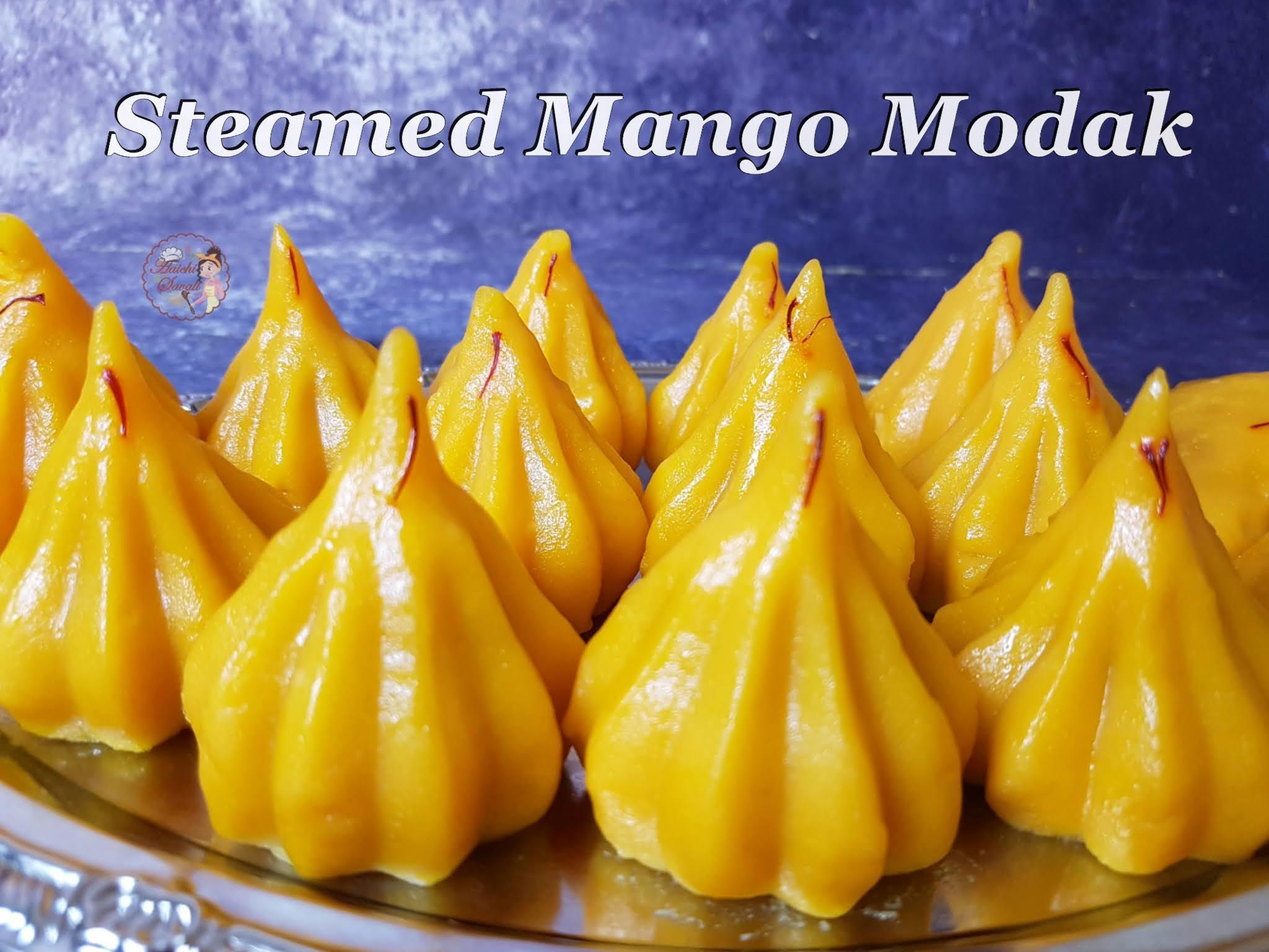modak: (10, 261, 1269, 952)
